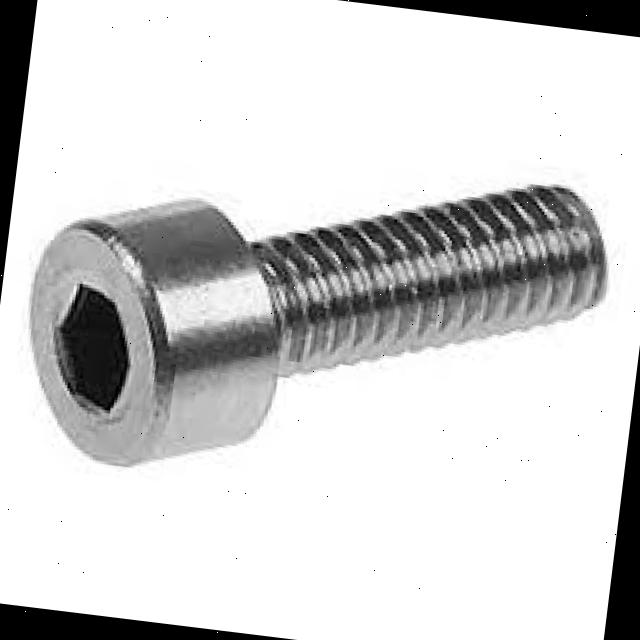Hex Socket Allen: (9, 217, 181, 471)
